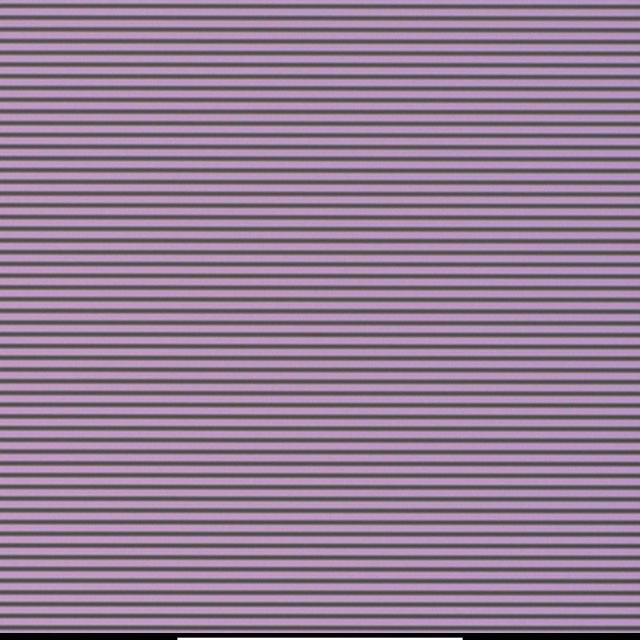nonvisual: (328, 311, 335, 319)
